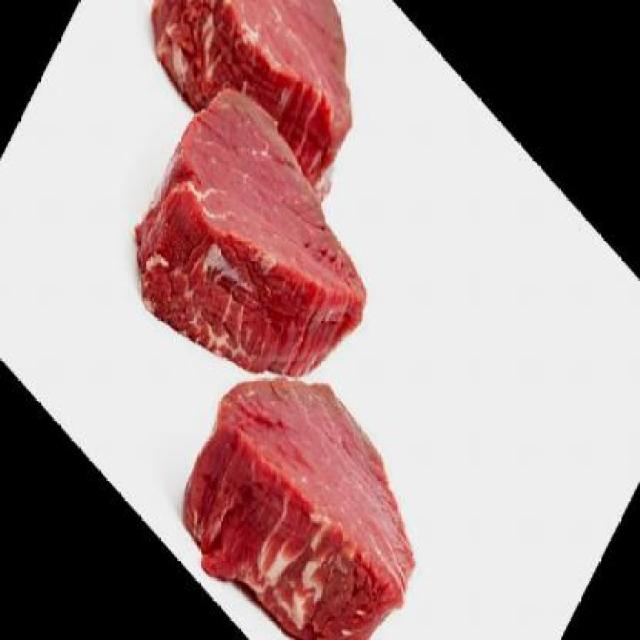beef: (109, 50, 398, 472), (157, 310, 448, 638), (130, 0, 398, 243)
